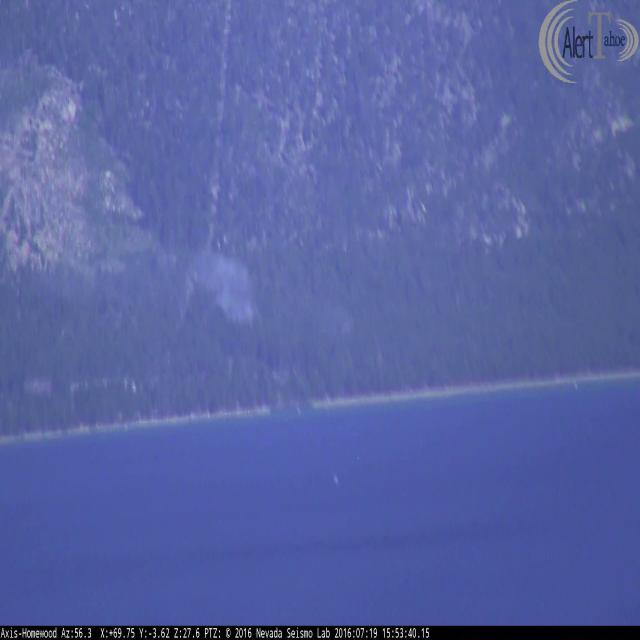smoke: (189, 213, 262, 319)
